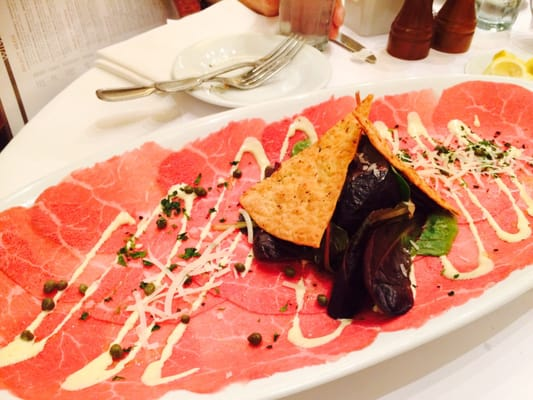pizza: (476, 0, 522, 33)
